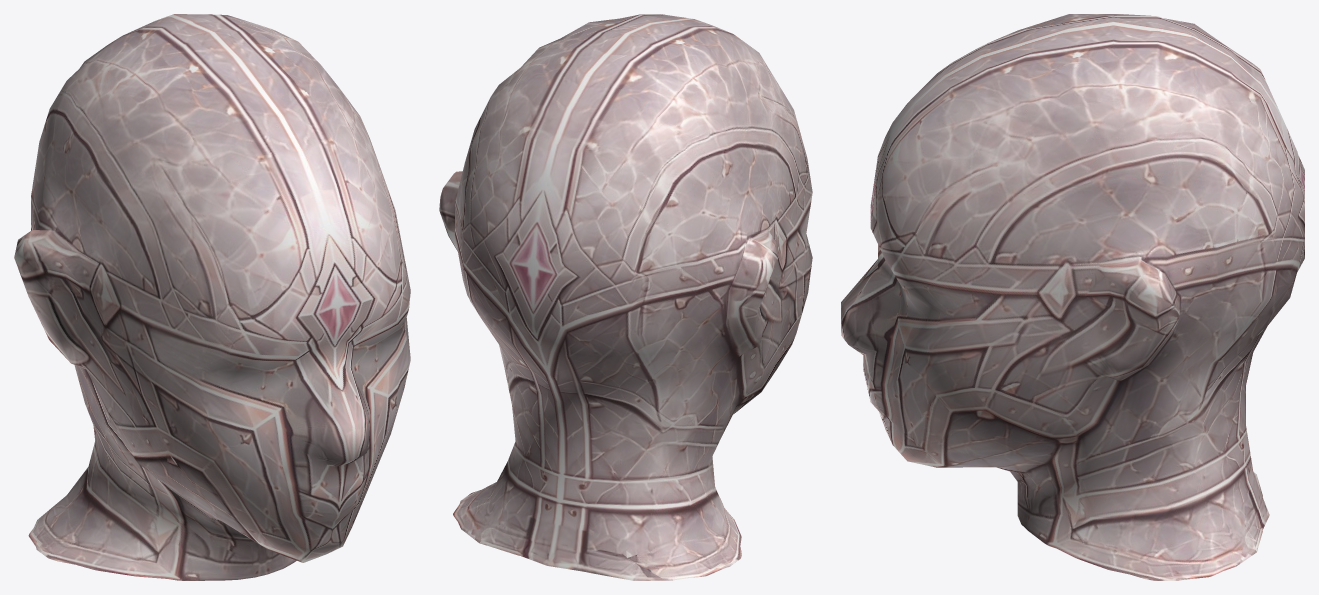
The model's file is TitaniumHelmet.glb.
3 views of the same model, side by side, from view 1: azimuth 30°, elevation 25°; view 2: azimuth 150°, elevation 25°; view 3: azimuth 270°, elevation 25° (orthographic). The views are drawn at different scales.
Bounding box in the file's own units: 1.44 × 2 × 1.72.
Materials: 1 (1 with a texture image).
